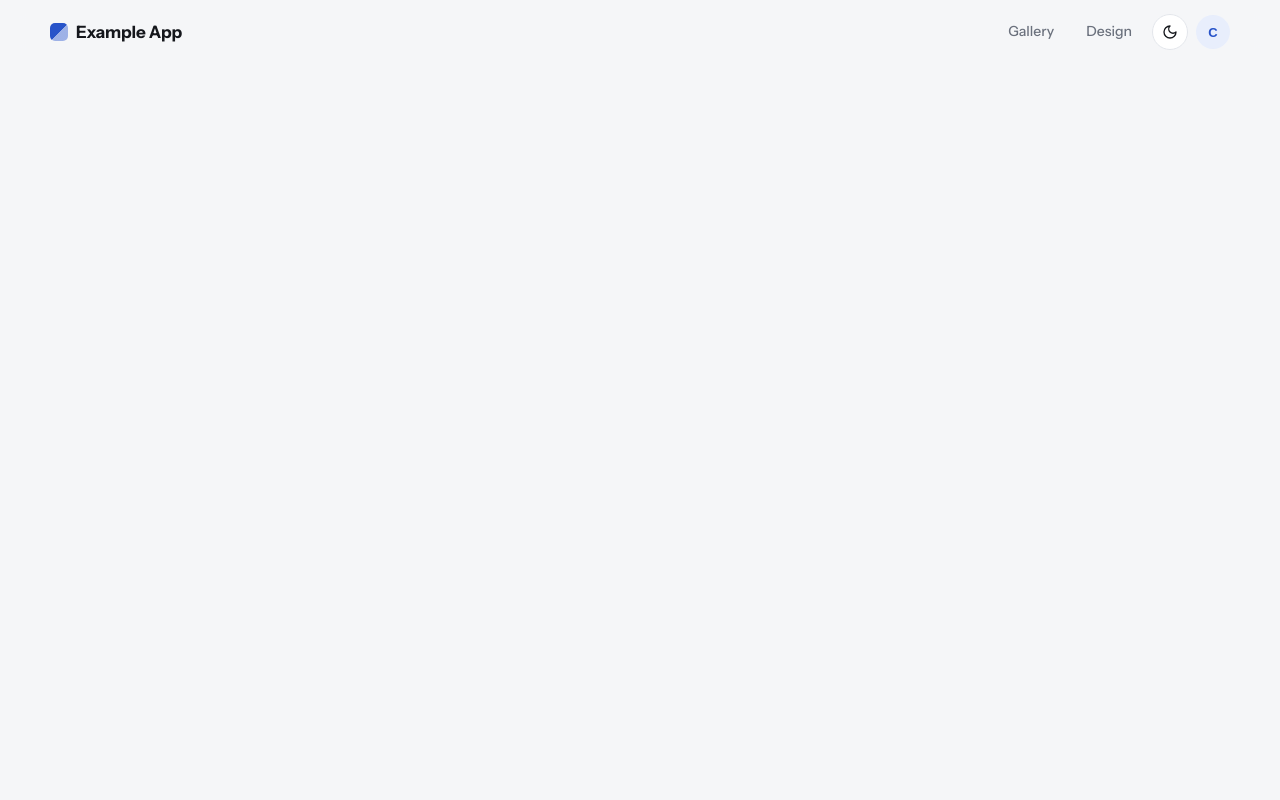
Scenario: NavBar › opens the account panel with Sign out when signed in
Click the button named "Account" at [1213, 32], box [1196,15,1230,49]
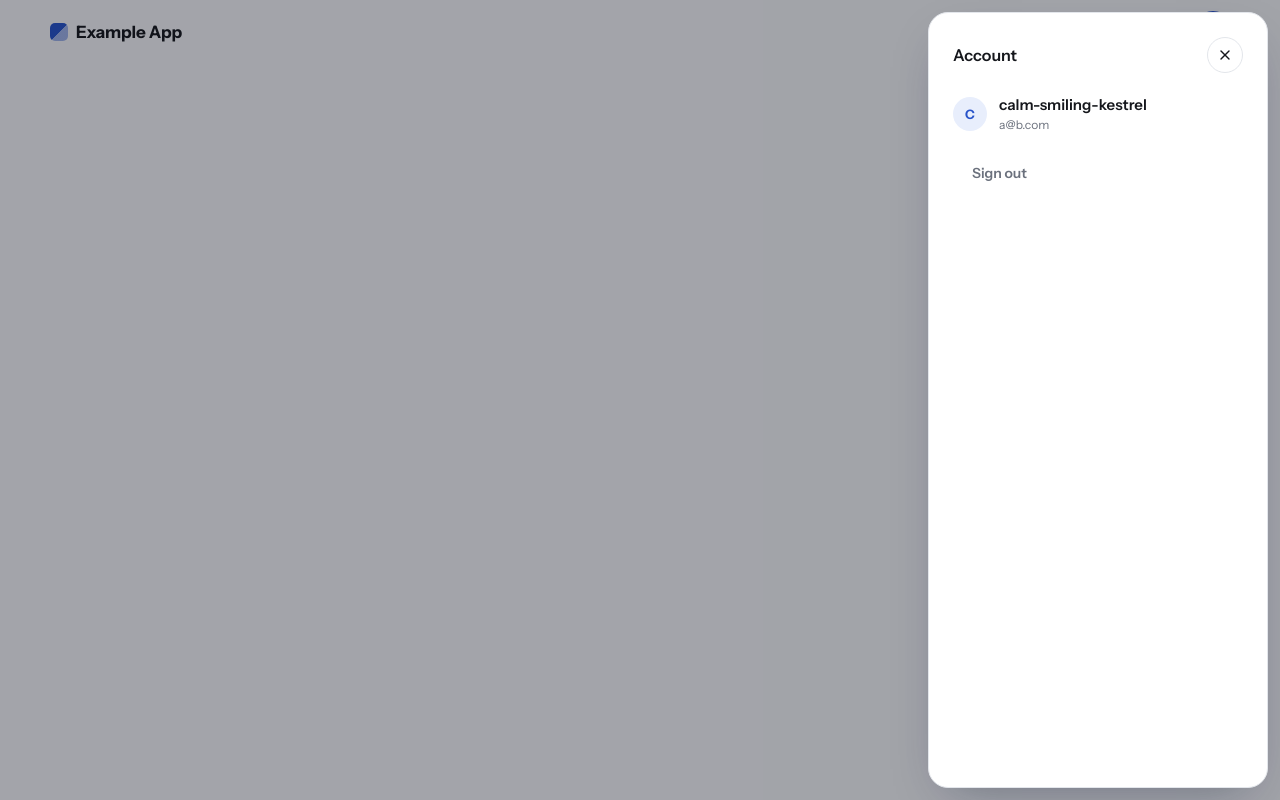
Expected: the dialog "Account" is shown, [928,12,1268,788]
Click the button "Sign out" at [999, 173], box [953,155,1243,192]
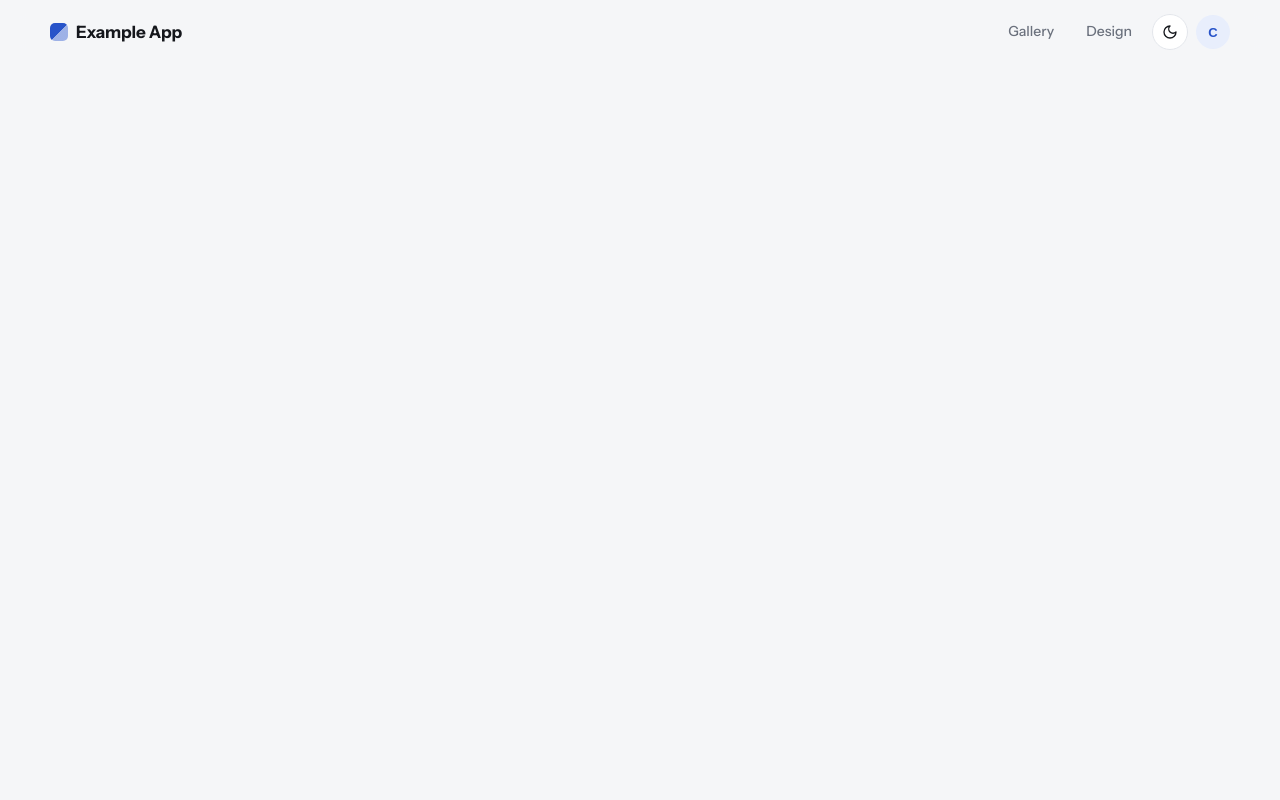
Expected: the text "Account" is gone
